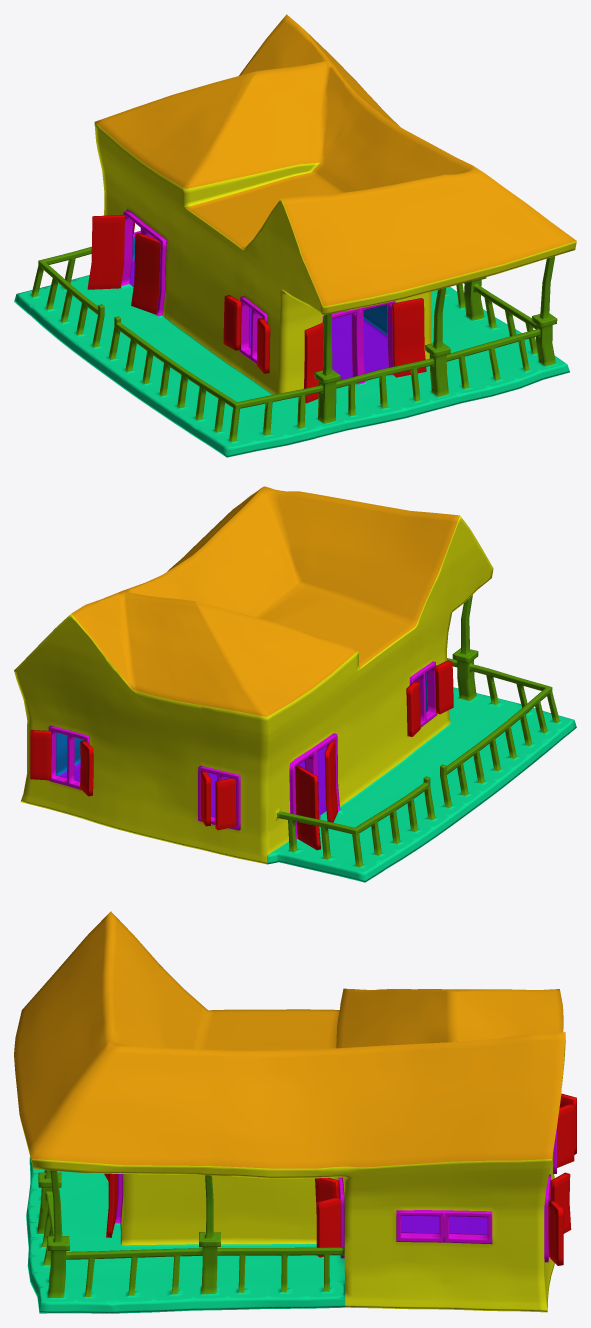
File: House_high.fbx
The picture shows the model from 3 angles, top to bottom: view 1: azimuth 30°, elevation 25°; view 2: azimuth 150°, elevation 25°; view 3: azimuth 270°, elevation 25°; orthographic projection. The views are drawn at different scales.
Parts seen in each view (by area): view 1: House_high; view 2: House_high; view 3: House_high.
Part boxes in pixels (left/top/right/bottom): House_high: left=14, top=14, right=576, bottom=457; House_high: left=14, top=486, right=576, bottom=882; House_high: left=14, top=911, right=576, bottom=1313.
Size of the model in its own units: 36.95 by 21.47 by 43.08.
